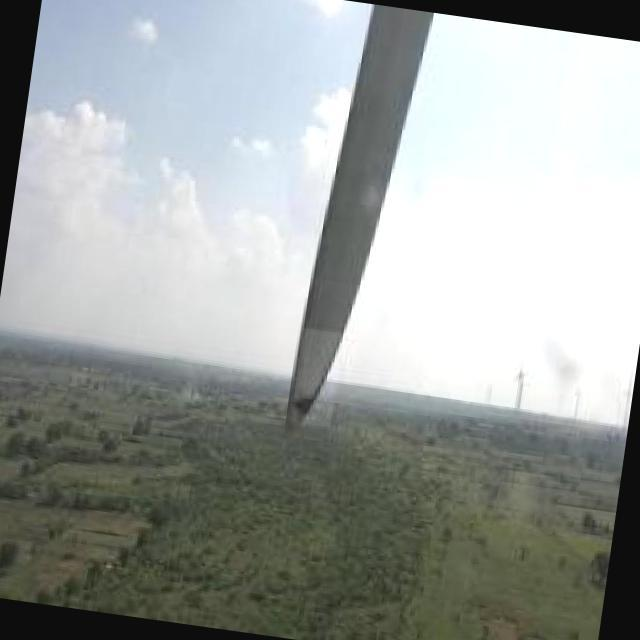Oil LEAKAGE: (287, 353, 333, 413)
